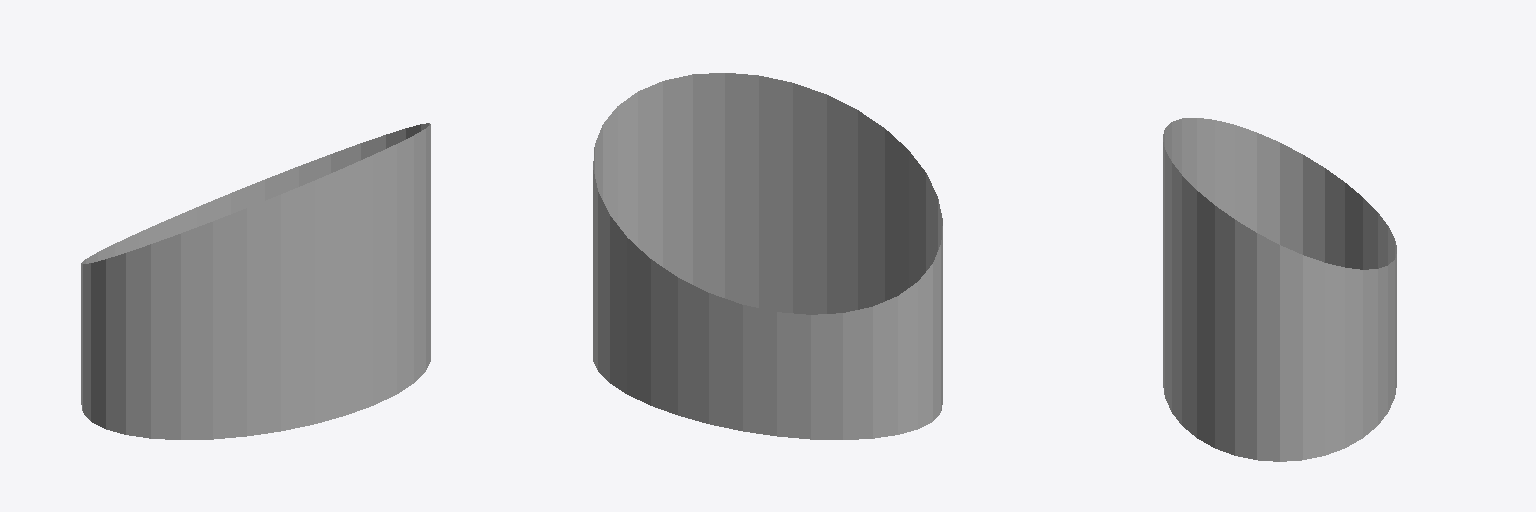
File: cutted_cylinder.obj
3 views of the same model, side by side, from view 1: azimuth 30°, elevation 25°; view 2: azimuth 150°, elevation 25°; view 3: azimuth 270°, elevation 25° (orthographic).
Parts seen in each view (by area): view 1: Cylinder; view 2: Cylinder; view 3: Cylinder.
Boxes of the visible parts, <box> form: Cylinder: <box>81,123,430,439</box>; Cylinder: <box>593,73,942,439</box>; Cylinder: <box>1163,118,1396,461</box>.
Bounding box in the file's own units: 3.62 × 2.63 × 2.23.